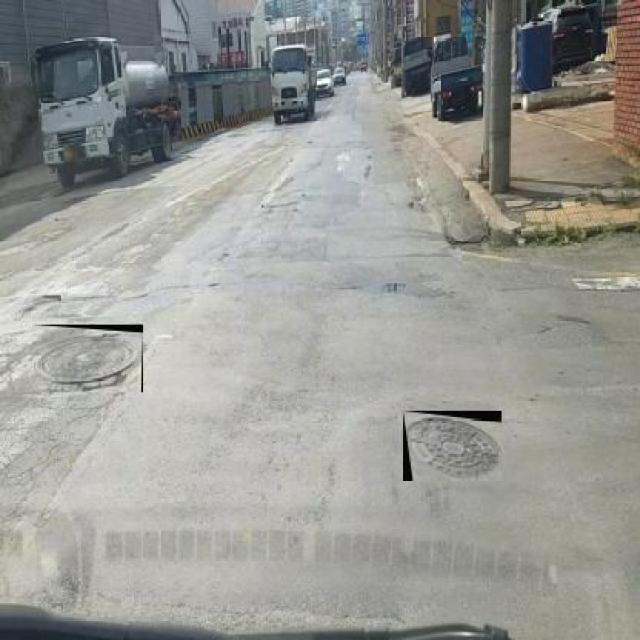Manhole: (33, 325, 144, 393), (403, 411, 502, 480)
Pothole: (22, 280, 63, 314), (549, 306, 599, 332), (376, 276, 414, 301), (404, 198, 428, 214), (205, 280, 223, 289), (220, 250, 230, 260)
